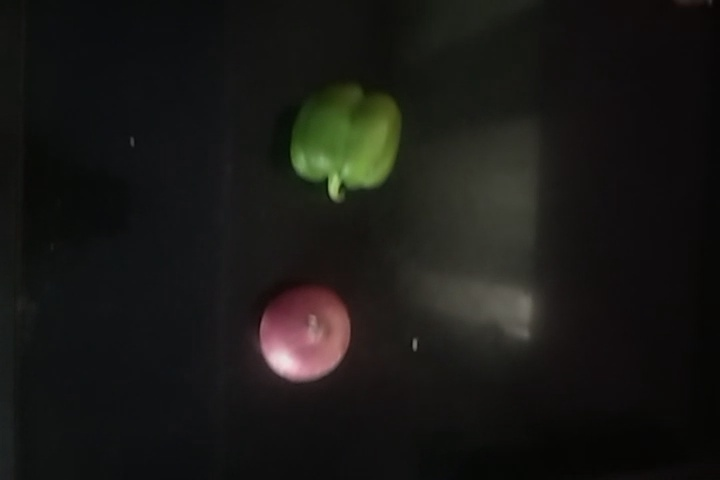capsicum: (293, 84, 402, 200)
onion: (254, 280, 351, 383)
